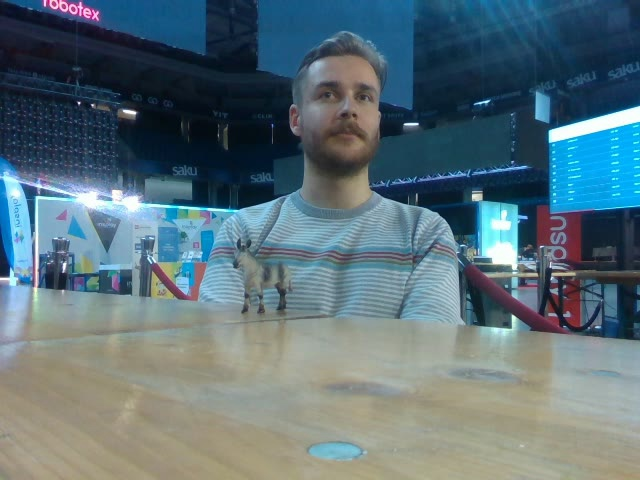toy: (233, 237, 295, 315)
